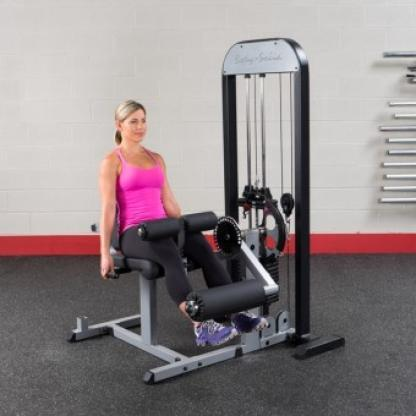leg extension: (57, 34, 351, 397)
